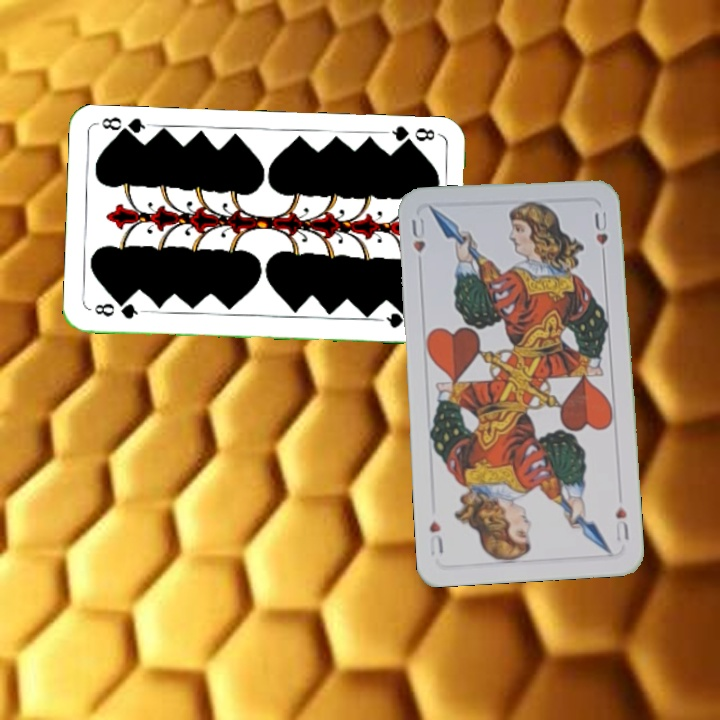G8: (384, 122, 443, 150), (90, 298, 147, 321)
HU: (611, 503, 632, 544), (408, 214, 428, 255)
